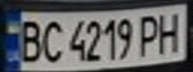1: (100, 16, 118, 61)
2: (84, 16, 103, 62)
4: (63, 16, 87, 63)
9: (115, 15, 139, 60)
B: (15, 17, 45, 64)
C: (36, 16, 66, 64)
H: (154, 9, 187, 55)
P: (133, 11, 163, 57)
